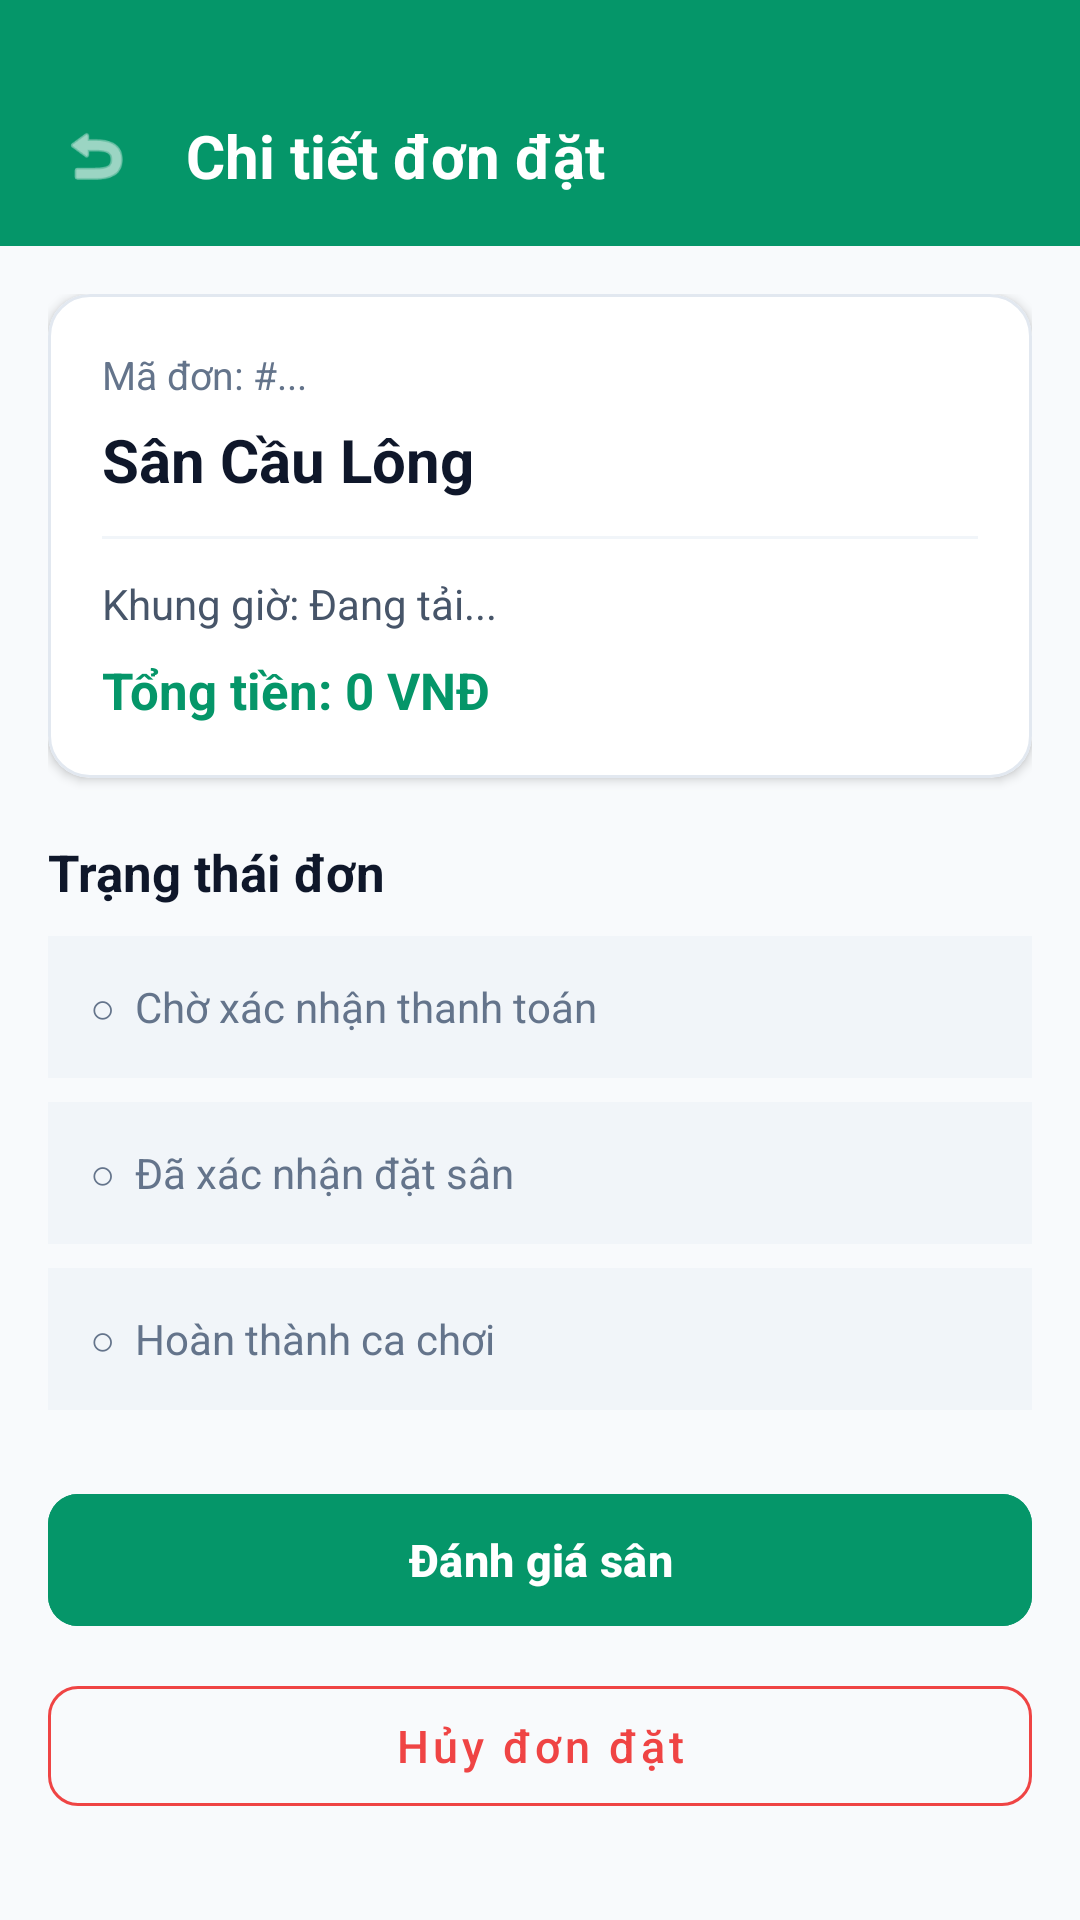

Screen size 1080*1920. Icon name, then its box in pixels as (left=x1, top=y1, right=x2, bottom=y2):
revert: (left=71, top=133, right=123, bottom=180)
